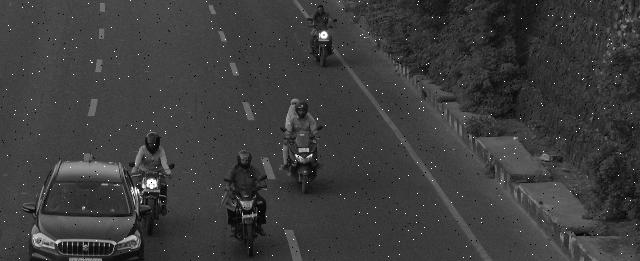With Helmet: (145, 131, 161, 155), (237, 149, 253, 169), (294, 102, 308, 122)
Without Helmet: (290, 98, 300, 112), (318, 6, 324, 16)
